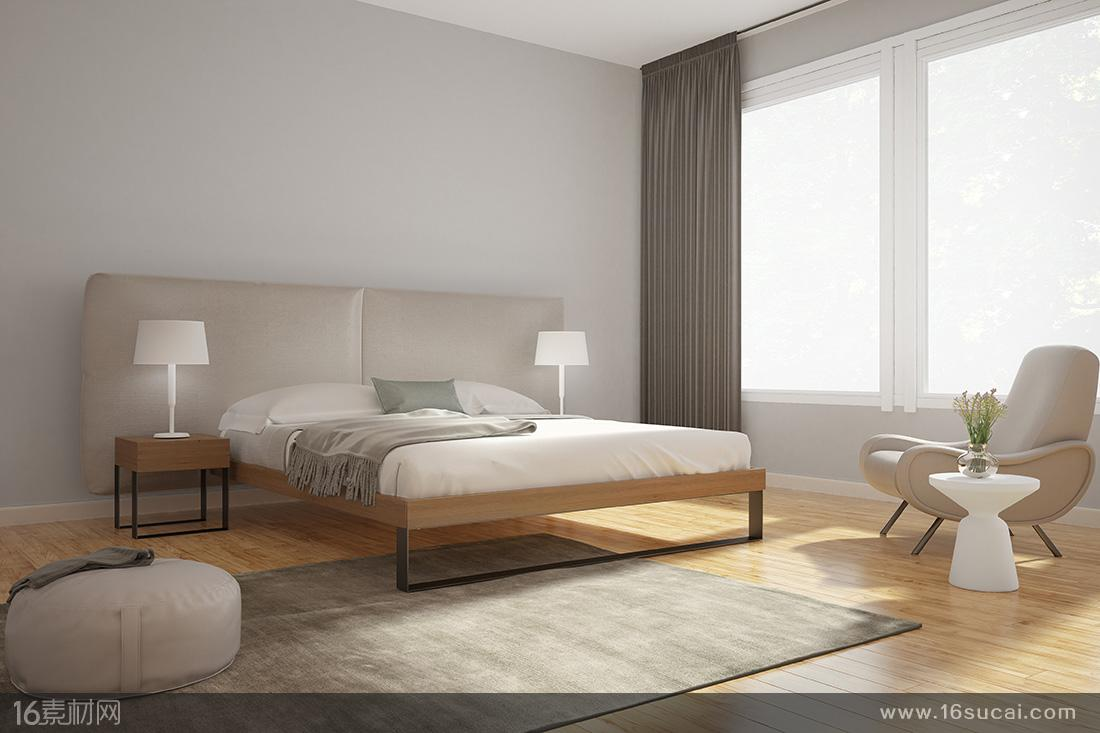床: (239, 398, 757, 591)
枕头: (223, 373, 537, 425)
灯: (123, 317, 207, 445), (527, 330, 586, 418)
